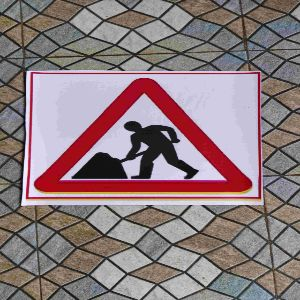men at work: (26, 73, 258, 200)
